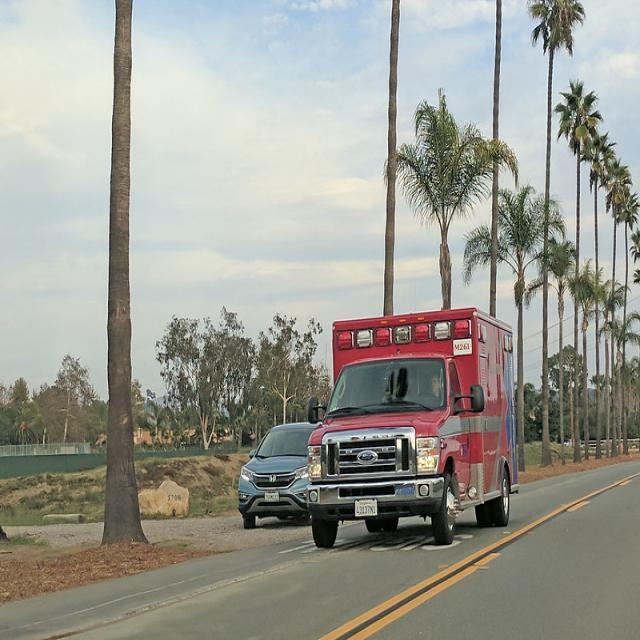emergency: (306, 308, 512, 564)
